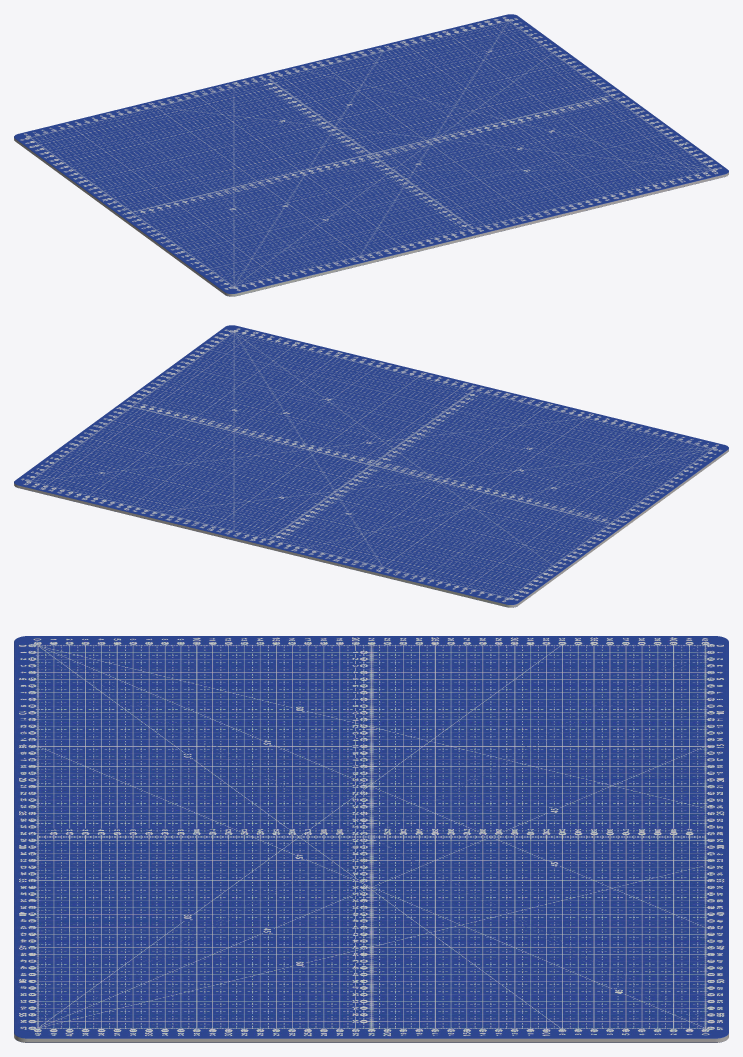
3 renders of one model, top to bottom at view 1: azimuth 30°, elevation 25°; view 2: azimuth 150°, elevation 25°; view 3: azimuth 270°, elevation 25°, orthographic. The views are drawn at different scales.
Visible parts, largest first — view 1: Object_2; view 2: Object_2; view 3: Object_2.
Part boxes in pixels (bbox=[...]): Object_2: bbox=[14, 14, 728, 296]; Object_2: bbox=[14, 325, 728, 607]; Object_2: bbox=[14, 636, 728, 1042].
Size of the model in its own units: 60.6 by 0.3419 by 45.5.
1 material, 1 textured.
